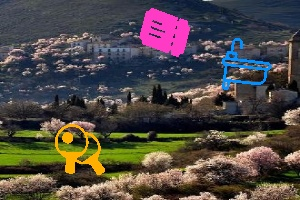乒乓球拍: (56, 124, 108, 179)
垃圾桶: (140, 7, 190, 57)
浴缸: (220, 38, 272, 92)
